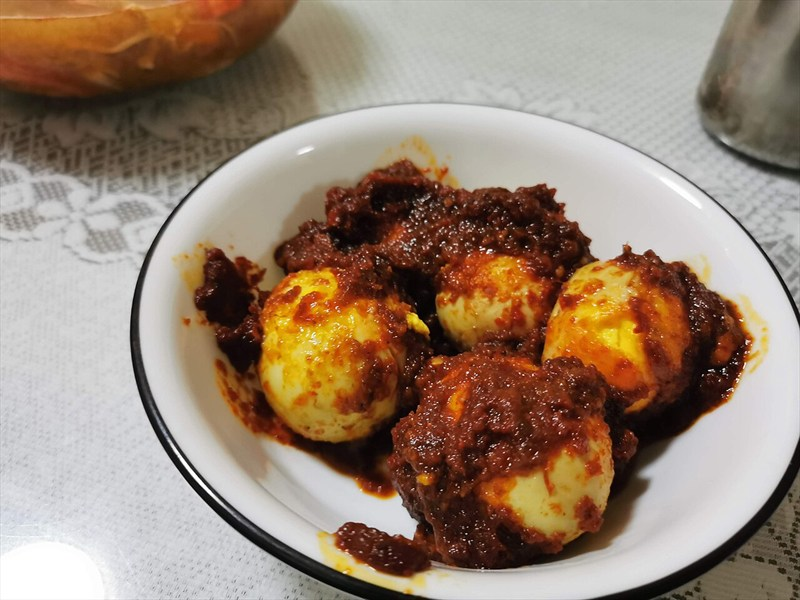Telur Balado: (182, 174, 723, 571)
